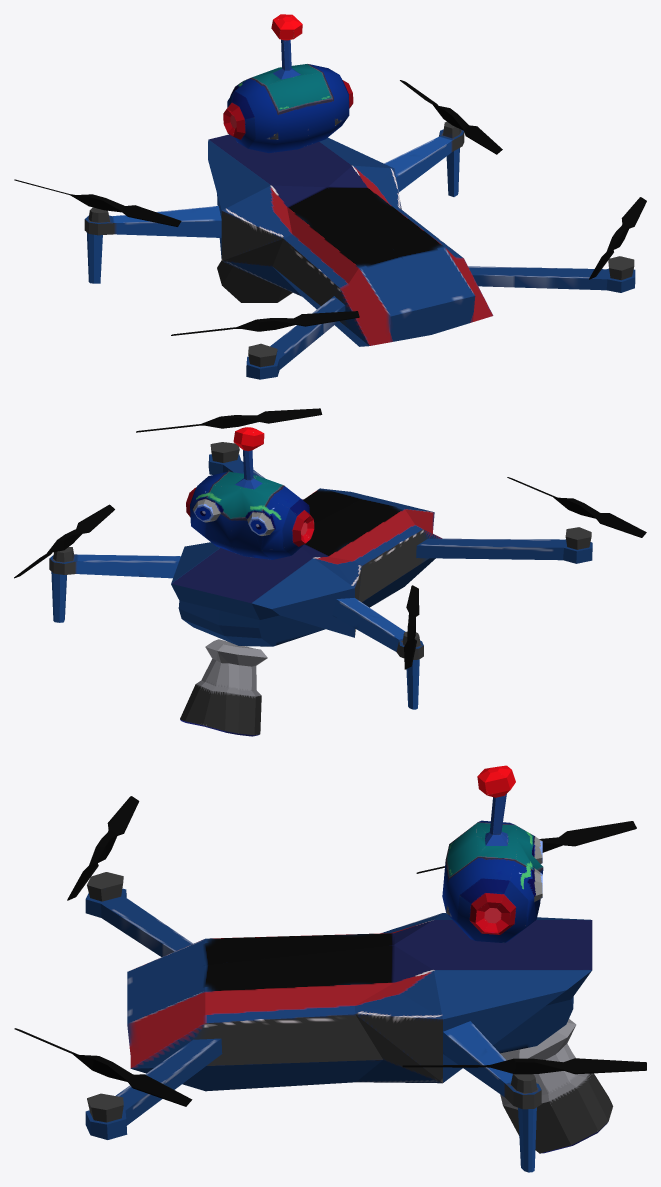
Rendered from drone_completo.fbx.
The picture shows the model from 3 angles, top to bottom: view 1: azimuth 30°, elevation 25°; view 2: azimuth 150°, elevation 25°; view 3: azimuth 270°, elevation 25°; orthographic projection. The views are drawn at different scales.
Parts seen in each view (by area): view 1: Drone, TMT, CameraDrone; view 2: Drone, TMT, CameraDrone; view 3: Drone, TMT, CameraDrone.
Boxes of the visible parts, <box> form: Drone: <box>14,80,646,379</box>; TMT: <box>223,14,353,153</box>; CameraDrone: <box>217,260,292,302</box>; Drone: <box>14,408,646,709</box>; TMT: <box>186,427,314,559</box>; CameraDrone: <box>180,639,267,736</box>; Drone: <box>14,796,646,1172</box>; TMT: <box>442,765,543,943</box>; CameraDrone: <box>500,1019,613,1153</box>.
Size of the model in its own units: 487 by 274 by 426.
3 materials, 3 textured.
